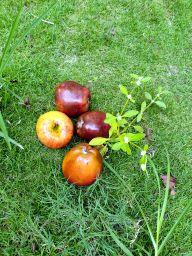apple: (59, 137, 107, 188), (50, 75, 101, 119), (30, 107, 76, 152), (72, 108, 120, 143)
